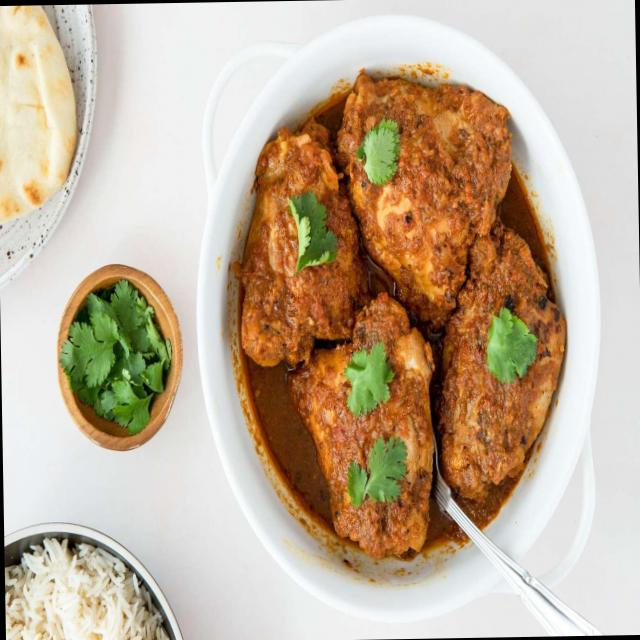chicken: (238, 68, 551, 559)
rice: (5, 540, 150, 634)
roti: (8, 4, 86, 218)
